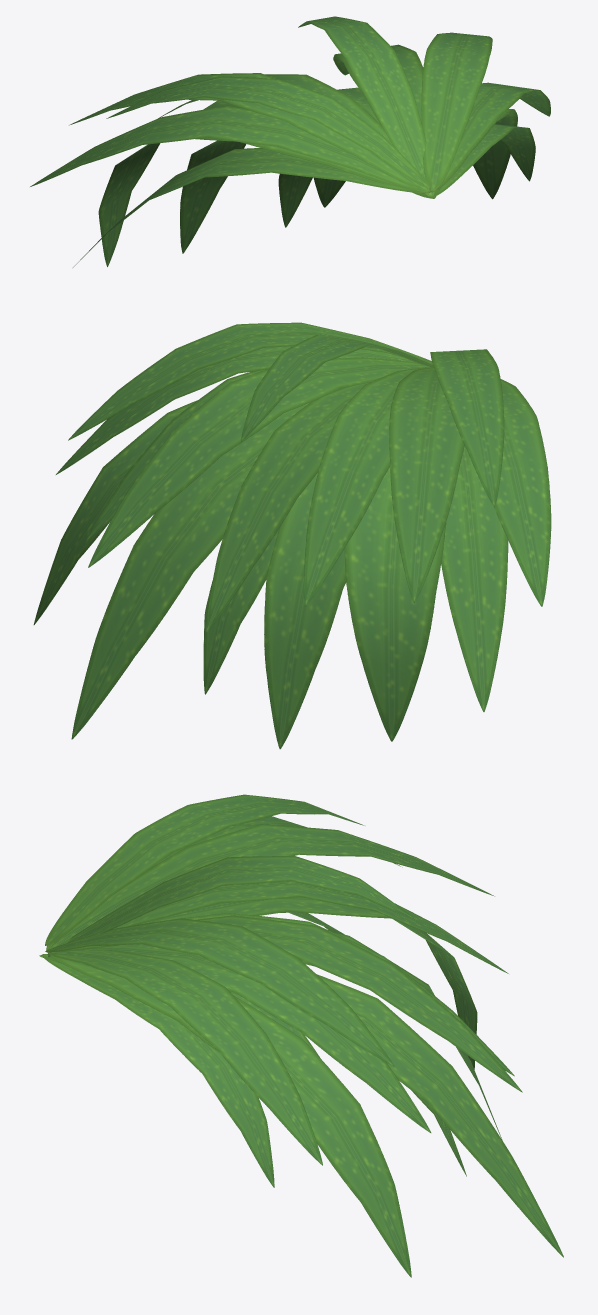
Rendered from Bush2.fbx.
3 views of the same model, one above another, from view 1: azimuth 30°, elevation 25°; view 2: azimuth 150°, elevation 25°; view 3: azimuth 270°, elevation 25° (orthographic). The views are drawn at different scales.
Parts seen in each view (by area): view 1: Plane.018; view 2: Plane.018; view 3: Plane.018.
Boxes of the visible parts, x1=… form: Plane.018: x1=30, y1=16, x2=550, y2=267; Plane.018: x1=33, y1=322, x2=551, y2=749; Plane.018: x1=39, y1=794, x2=563, y2=1277.
Bounding box in the file's own units: 166 × 88.36 × 133.
Materials: 1 (1 with a texture image).
